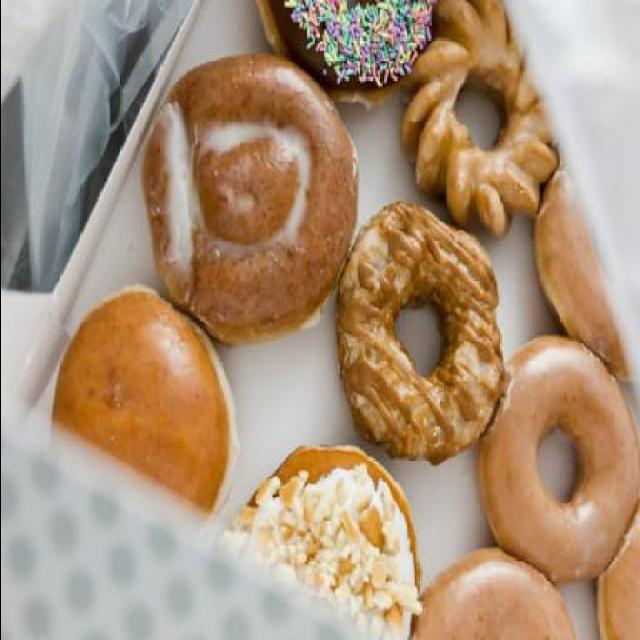Donuts: (40, 1, 637, 638)
